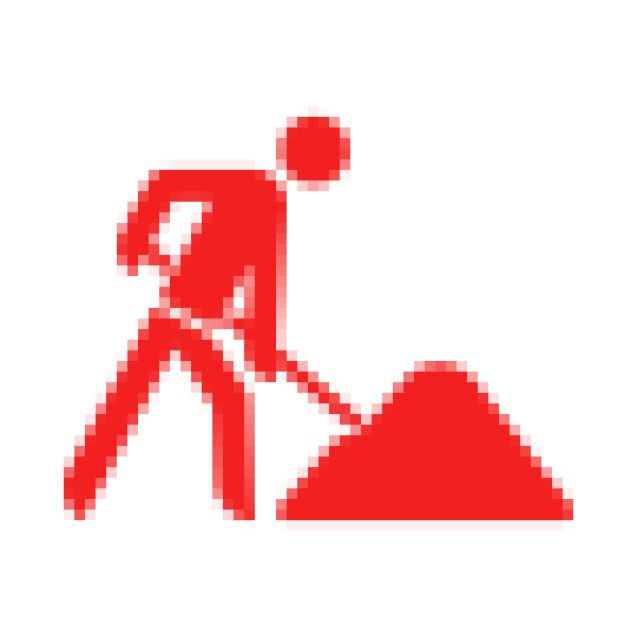CONSTRUCTION: (32, 57, 592, 555)
